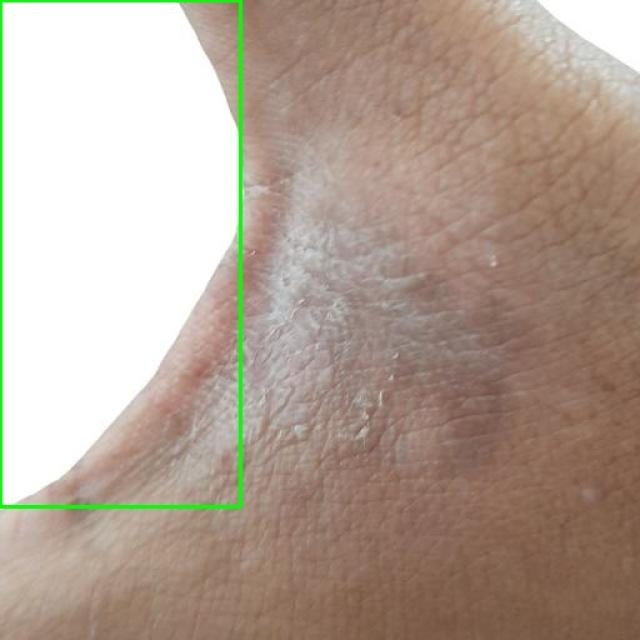Scabies: (0, 0, 240, 506)
